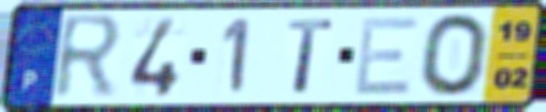1: (219, 16, 251, 97)
4: (126, 14, 184, 100)
E: (351, 14, 422, 97)
O: (418, 11, 492, 99)
R: (49, 11, 128, 104)
T: (285, 17, 335, 96)
